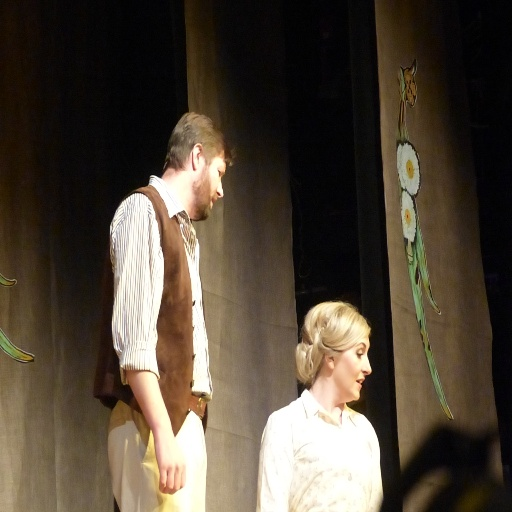hand: (142, 416, 195, 499)
